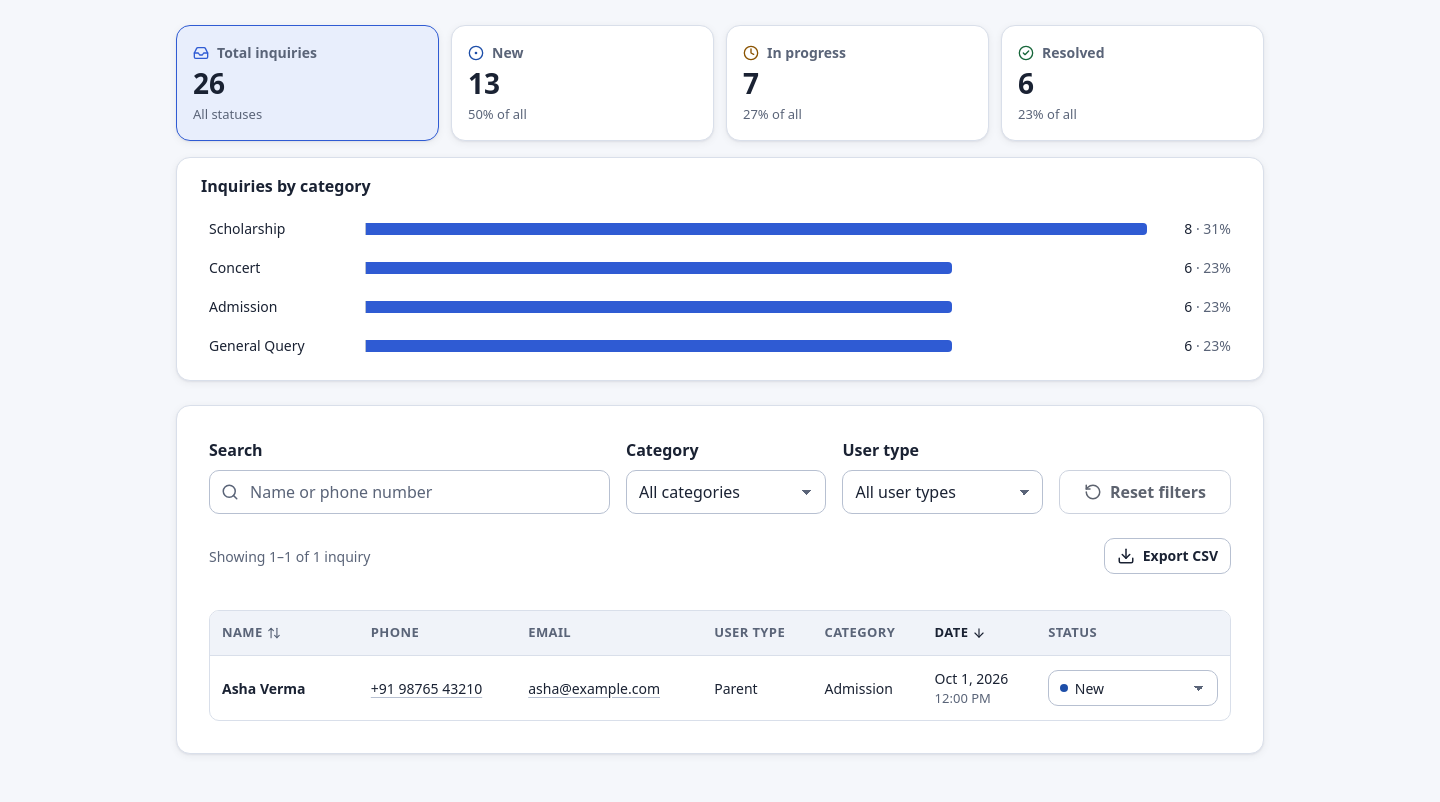
Test: summary cards › refresh after a status change
(page scrolled)
Expected: the table is shown, [210,611,1230,720]
Select "Resolved" in the dropdown named "Status for Asha Verma". click: (1133, 688)
box: [1048,670,1218,706]
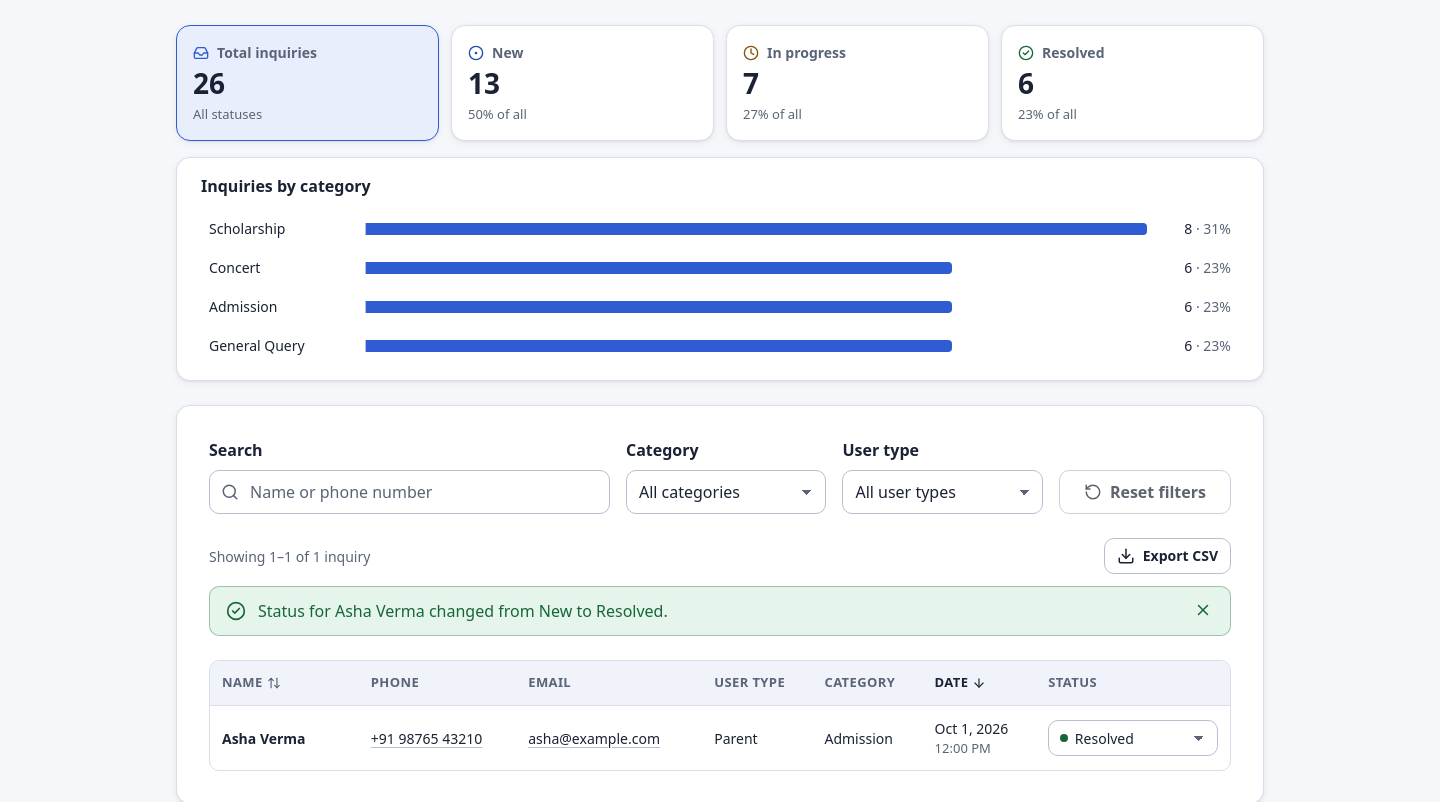
Result: the text "Status for Asha Verma changed from New to Resolved." is shown at [258,599,668,623]
